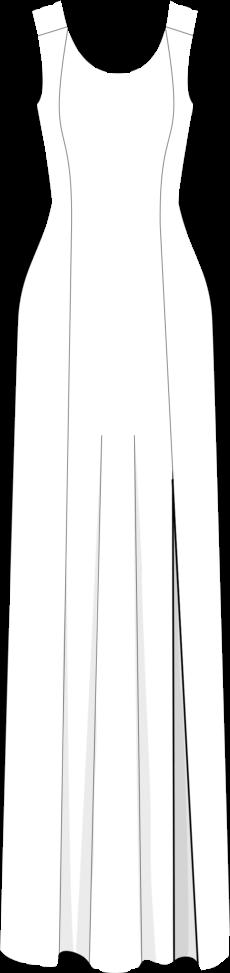Bodice: (32, 1, 197, 202)
Hemline: (0, 942, 229, 972)
Neckline: (54, 3, 181, 80)
Skirt: (0, 203, 228, 970)
